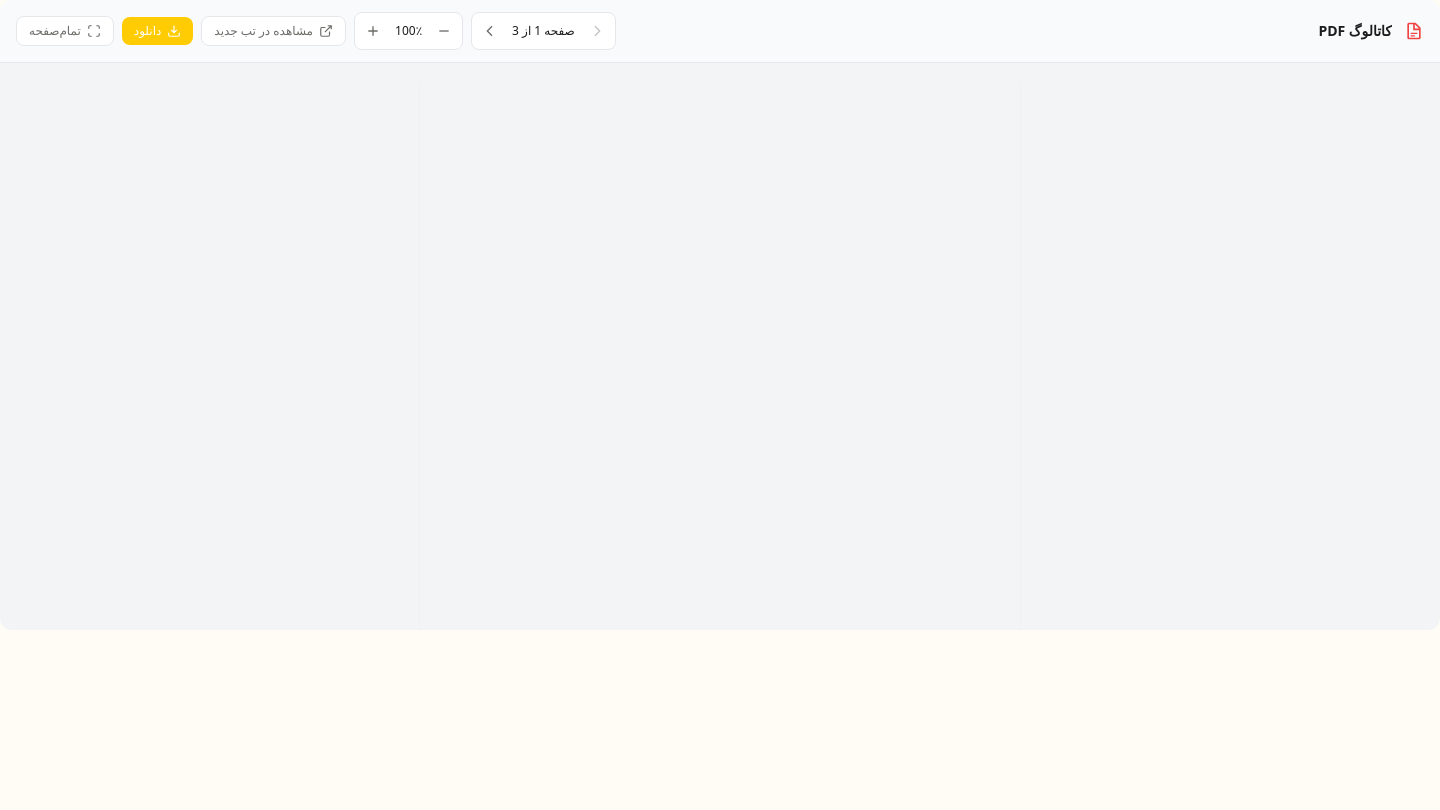
Test: PdfViewer — fullscreen (F5) › enters fullscreen: the shell overlays the viewport and the page area fills it
Expected: the text "صفحه 1 از 3" is shown, top-left (508, 23), bottom-right (579, 39)
Click the button "تمام‌صفحه" at (65, 31), box top-left (16, 16), bottom-right (114, 46)
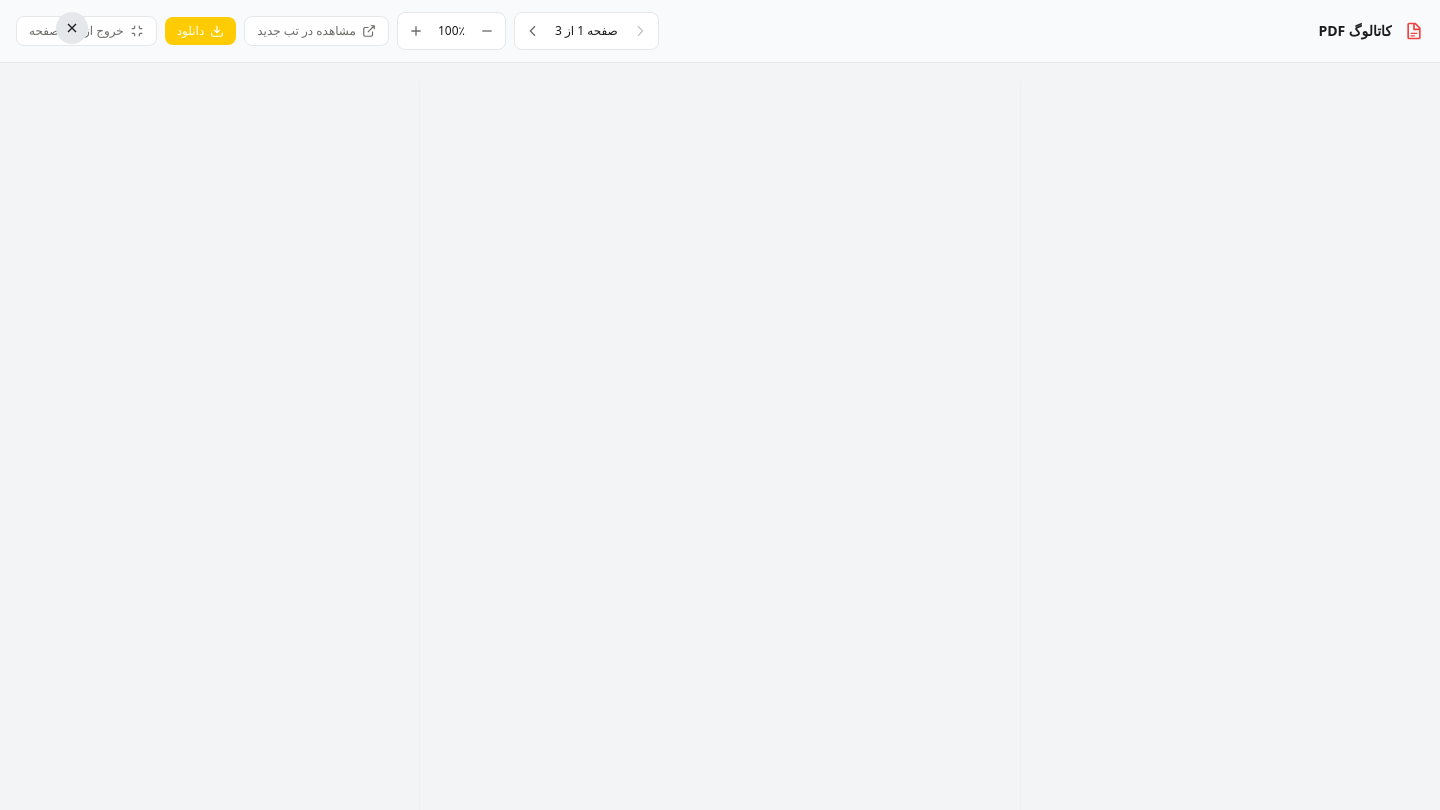
Expected: the text "صفحه 1 از 3" is shown, top-left (551, 23), bottom-right (622, 39)
Expected: the button named "بستن تمام‌صفحه" is shown, top-left (56, 12), bottom-right (88, 44)
